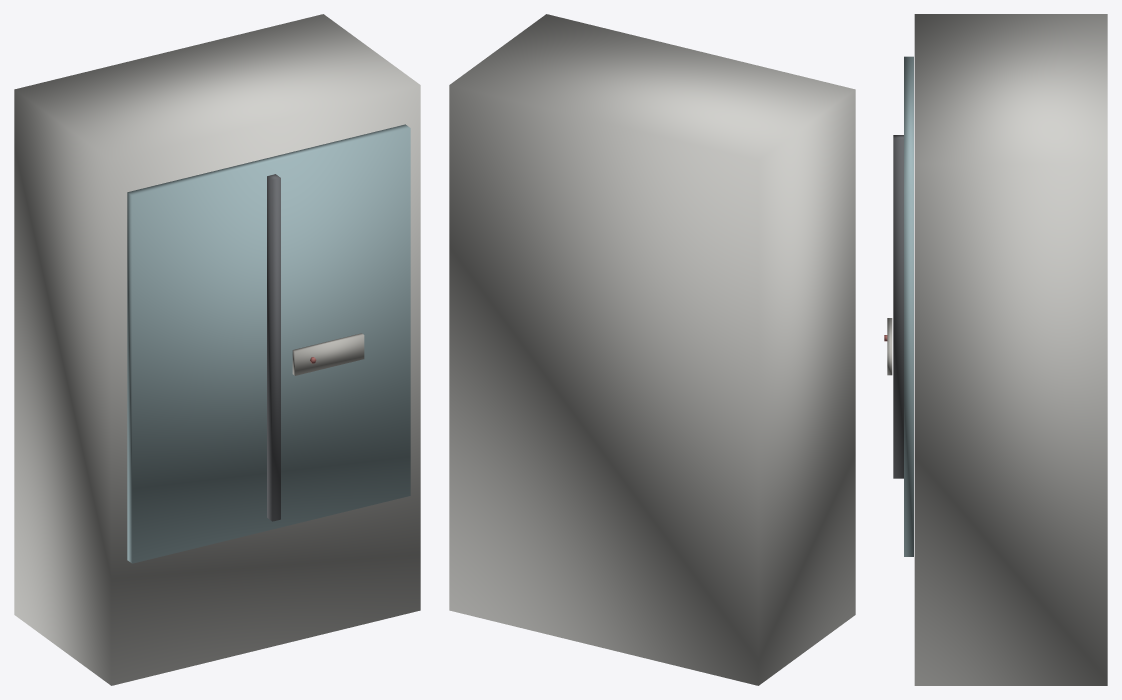
Rendered from refrigerated_display_case__tall.glb.
3 renders of one model, left to right at view 1: azimuth 30°, elevation 25°; view 2: azimuth 150°, elevation 25°; view 3: azimuth 270°, elevation 25°, orthographic.
Parts seen in each view (by area): view 1: world; view 2: world; view 3: world.
Boxes of the visible parts, box(x1,y1,x2,y2) form: world: box(14, 14, 420, 685); world: box(449, 14, 855, 685); world: box(884, 14, 1107, 685).
Size of the model in its own units: 1.25 by 2.03 by 0.786.
